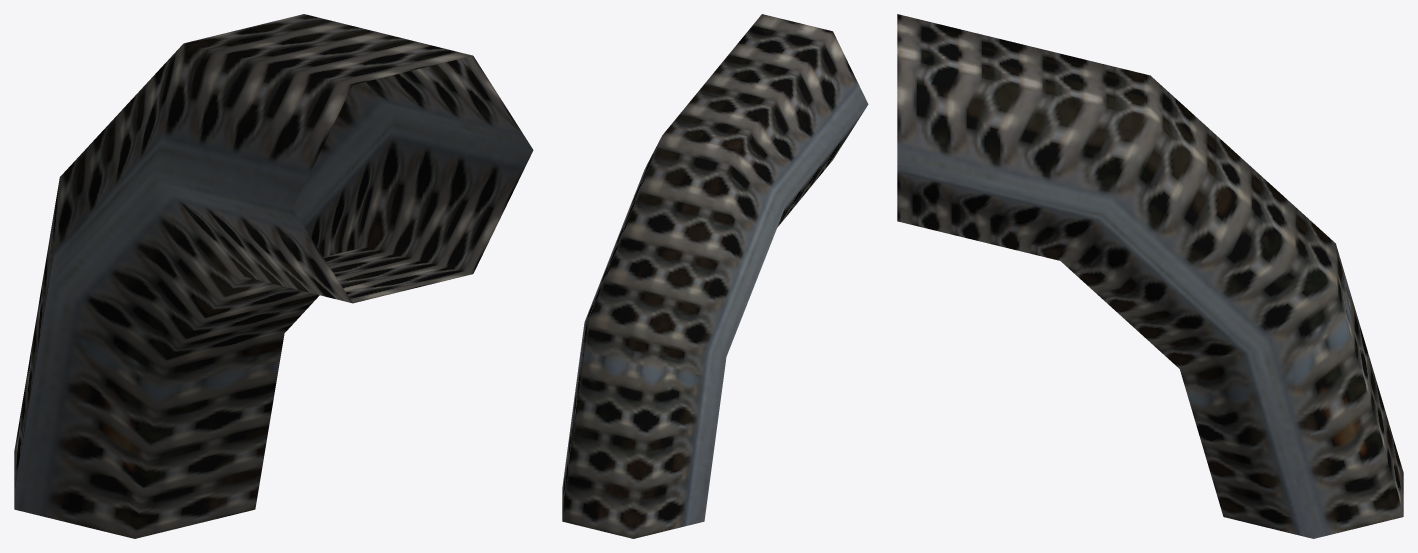
File: small_mesh_4_elbow.fbx
3 views of the same model, side by side, from view 1: azimuth 30°, elevation 25°; view 2: azimuth 150°, elevation 25°; view 3: azimuth 270°, elevation 25° (orthographic). The views are drawn at different scales.
Parts seen in each view (by area): view 1: allPipes:pTorus38; view 2: allPipes:pTorus38; view 3: allPipes:pTorus38.
Part boxes in pixels (x1,y1,x2,y2): allPipes:pTorus38: [14, 14, 533, 538]; allPipes:pTorus38: [562, 14, 868, 538]; allPipes:pTorus38: [897, 14, 1403, 538].
Bounding box in the file's own units: 0.25 × 0.6083 × 0.6083.
